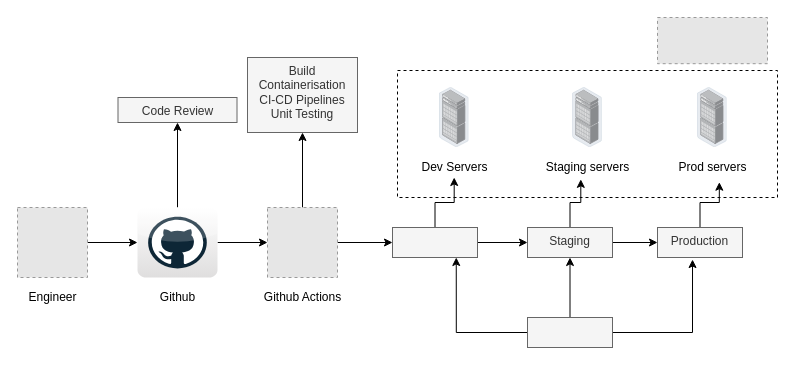
The diagram is 795 pixels wide and 365 high, and some of its shapes have lost their labels. Grey dashed boxes stand in for pictures. Each missing label, with the box of its shape:
Development: (392, 226, 478, 258)
QA & UAT: (526, 316, 612, 348)
